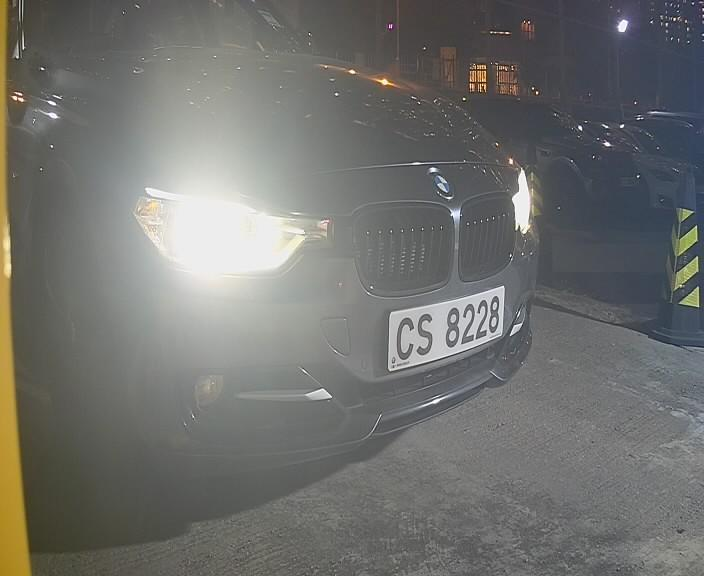privatecar: (54, 8, 573, 497)
